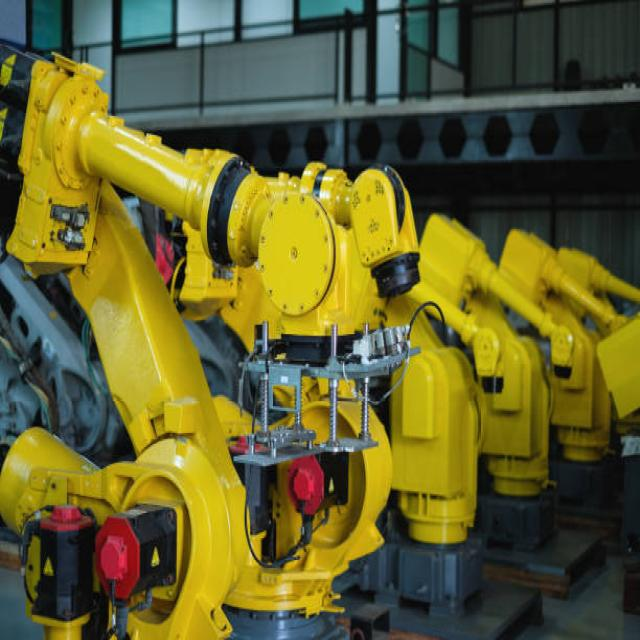Robotic-arm: (0, 34, 418, 640), (423, 210, 640, 487)
